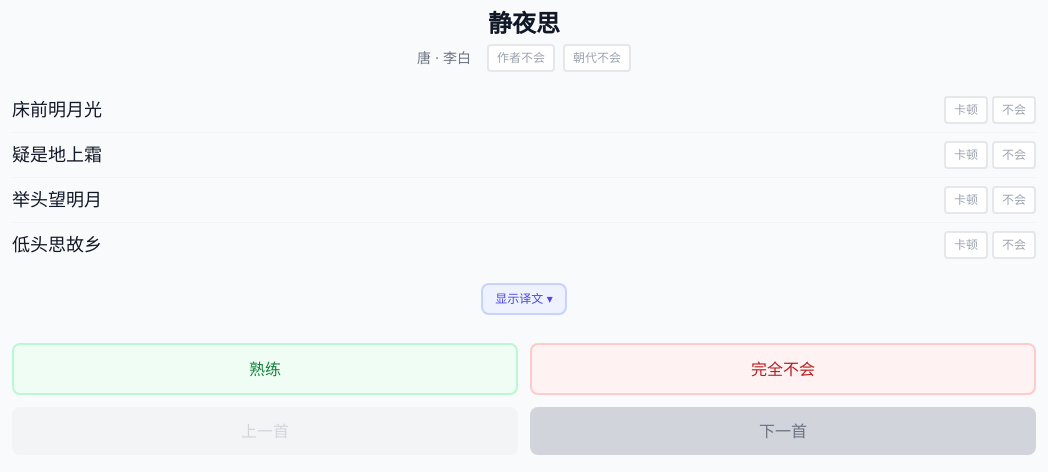
Test: RecitationCard › "下一首" button › is disabled when author is marked correct (true)
The width and height of the screenshot is (1048, 472).
# null → false → true
Step 1. Click the button with test id "btn-author-forgot" → [521, 58], box [487, 44, 555, 72]
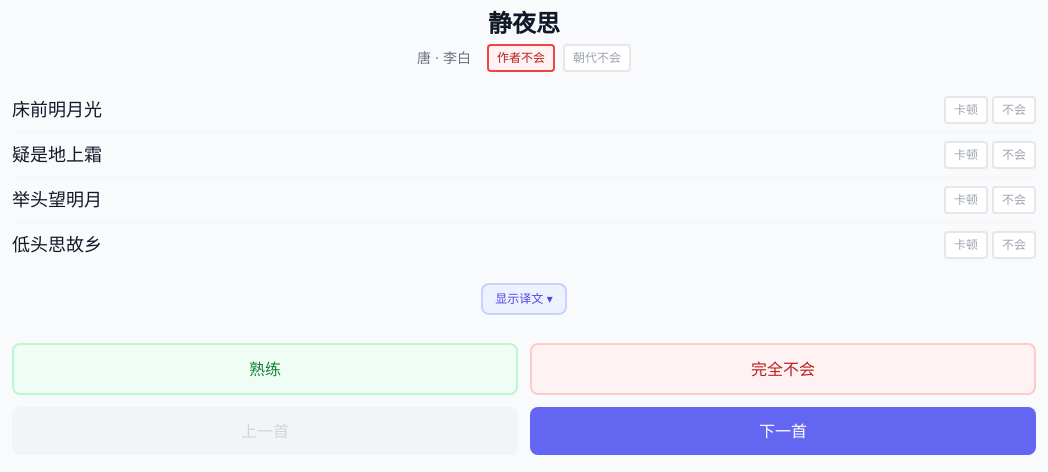
Step 2. Click the button with test id "btn-author-forgot" → [521, 58], box [487, 44, 555, 72]
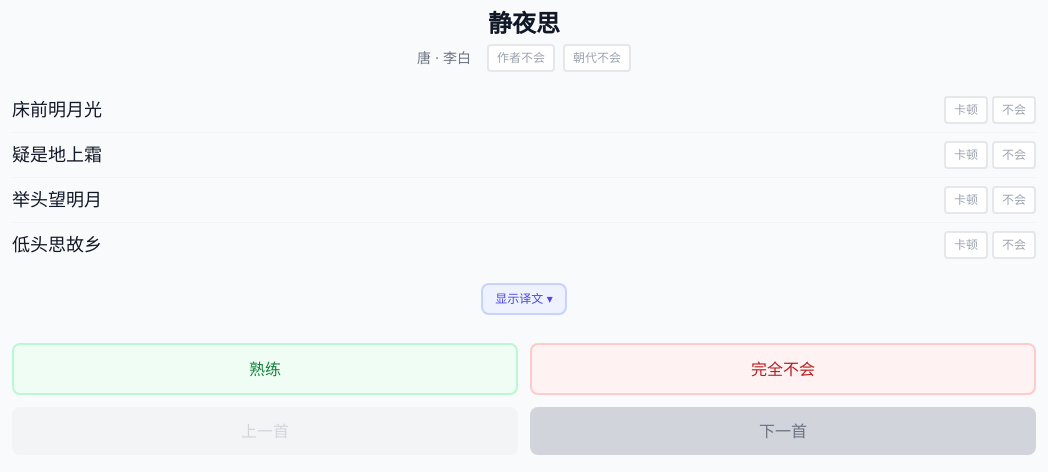
Check: the button "下一首" is disabled, box [530, 407, 1036, 455]
